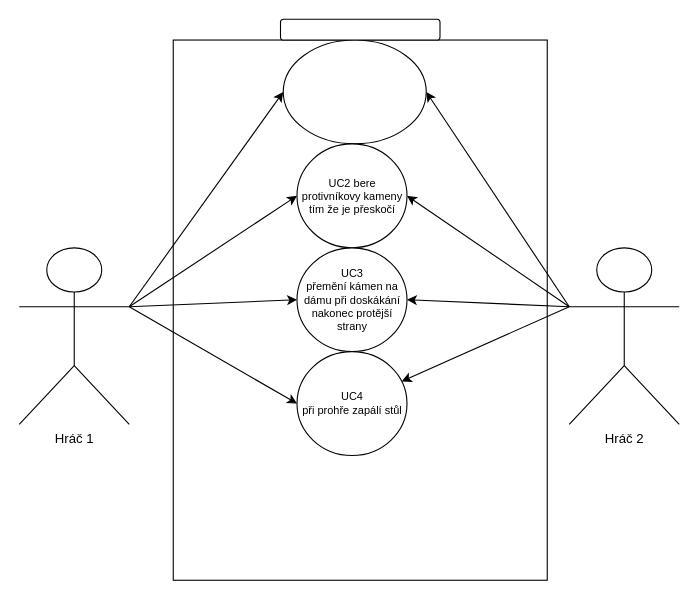
Image size: 699x600. Some labels were removed from this diagram. The shapes that lost their labels are listed below. From the top down, each one's centre as x and y in pixels, then its label:
At point (359, 29): "DÁMA".
At point (354, 91): "UC1 pohybuje svými kameny po hrací ploše pouze šikmo do předu pokud nemá dámu".
